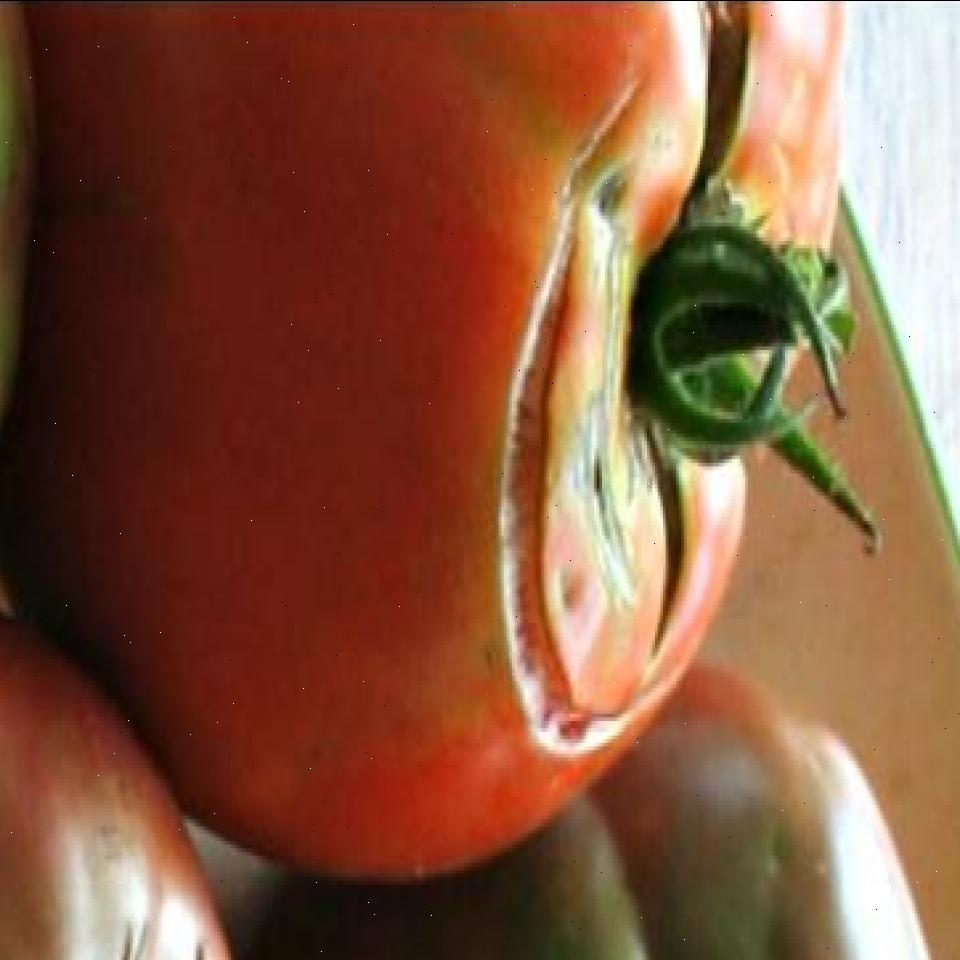Cracking: (503, 53, 701, 776)
